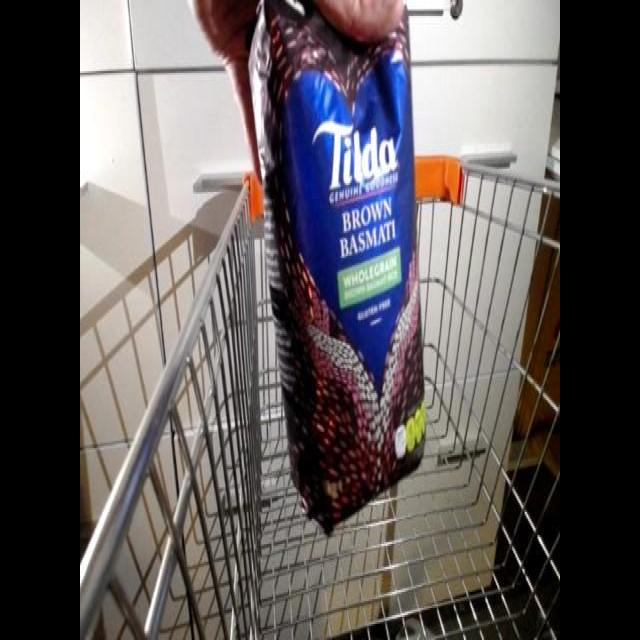Tida: (243, 5, 429, 532)
